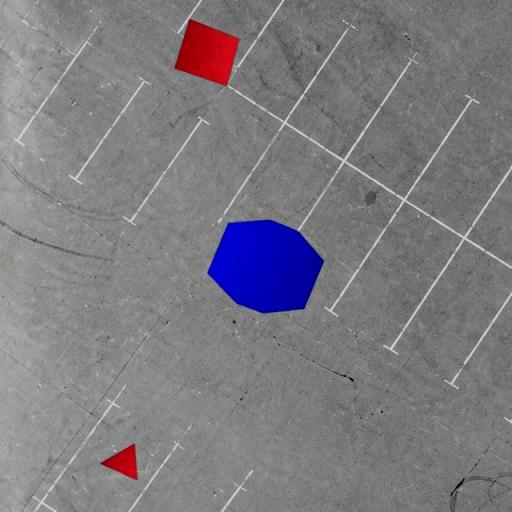RED_SQUARE: (174, 18, 240, 86)
